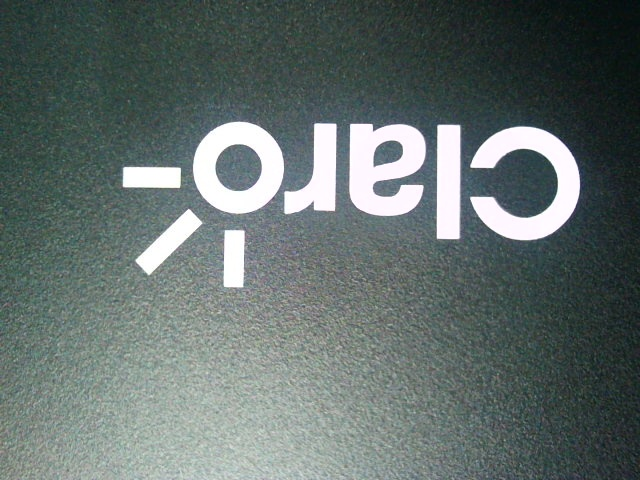BC_Claor: (117, 101, 582, 292)
